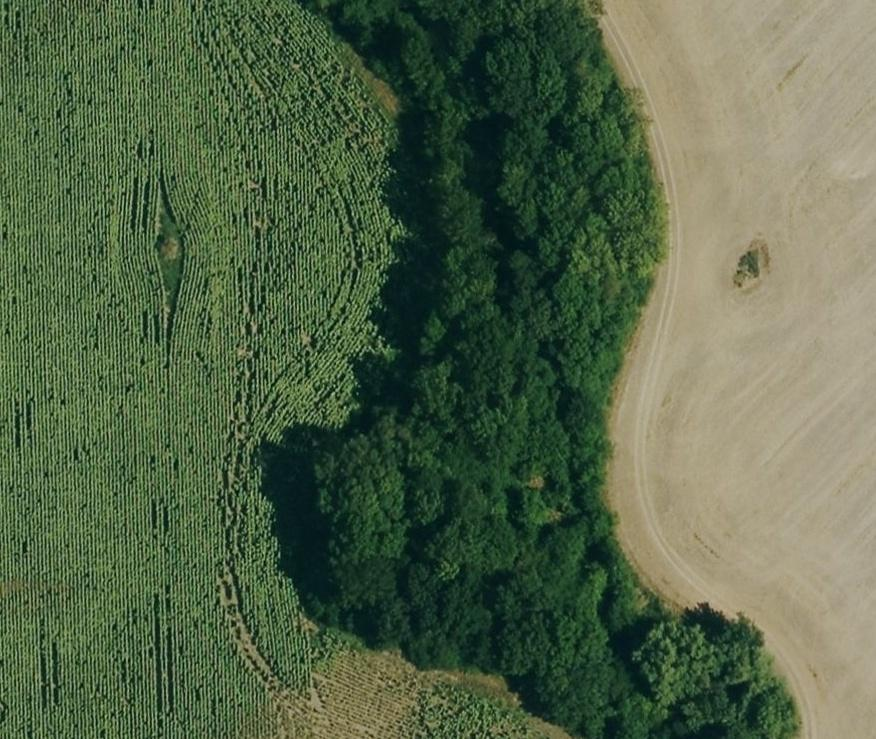field: (0, 2, 513, 737), (601, 0, 876, 736)
forest: (265, 2, 797, 737)
